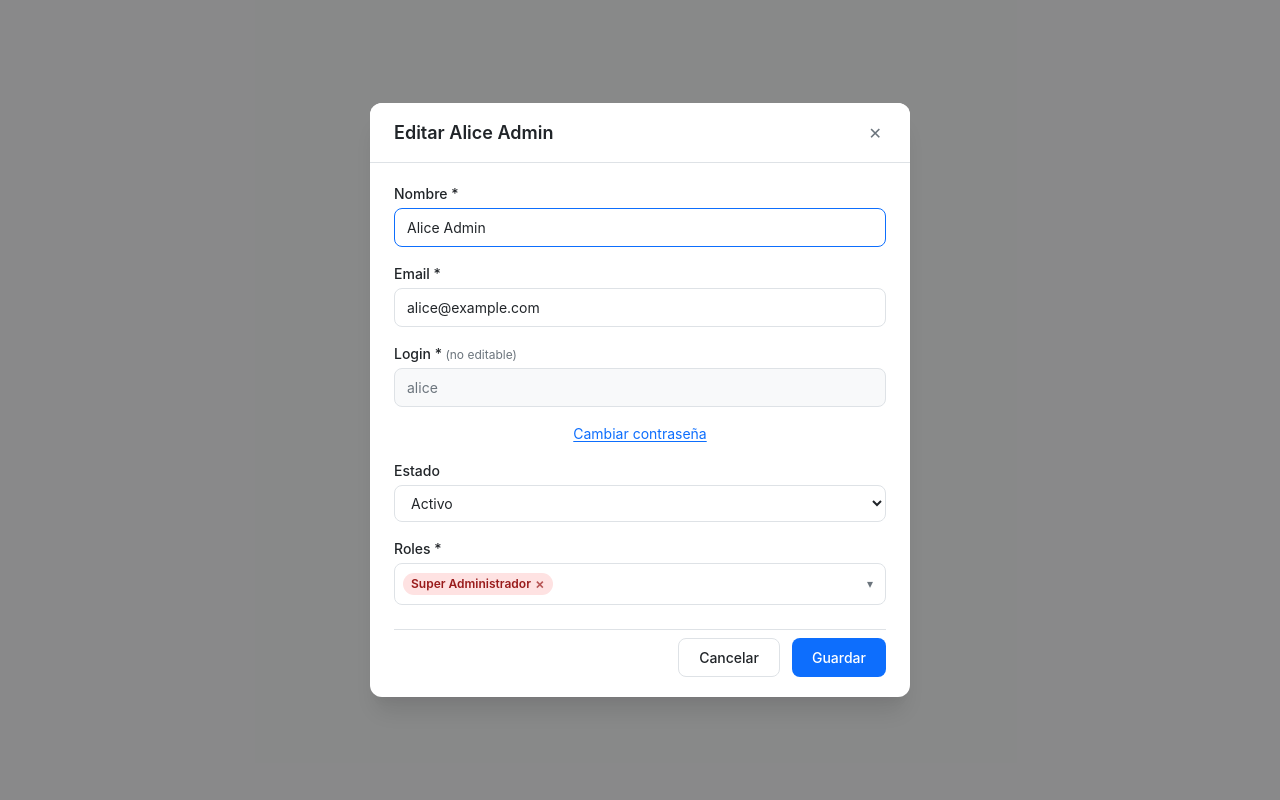
Test: RbacUserModal › shows 403 CANNOT_REMOVE_LAST_SUPER_ADMIN as banner
The image size is (1280, 800).
Click the button "Guardar" at (839, 658), box [792, 638, 886, 677]
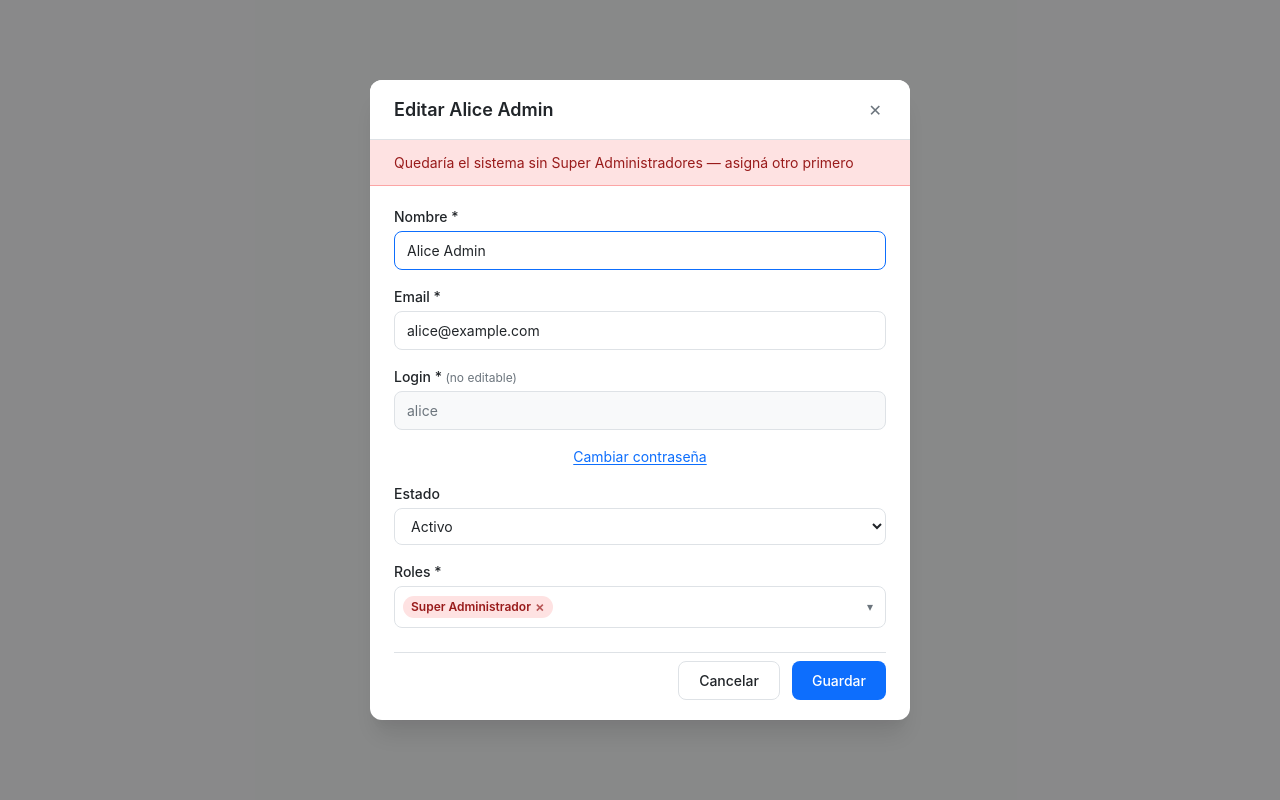
expect the text "Quedaría el sistema sin Super Administradores — asigná otro primero" is shown: met, box [370, 140, 910, 186]
